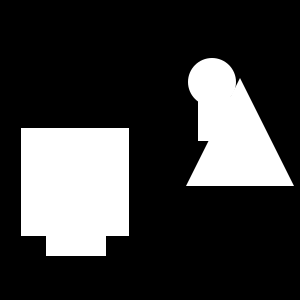circle: (21, 128, 129, 236), (46, 196, 106, 256), (198, 97, 242, 141)
rectangle: (188, 58, 236, 106)
triangle: (186, 78, 294, 186)
